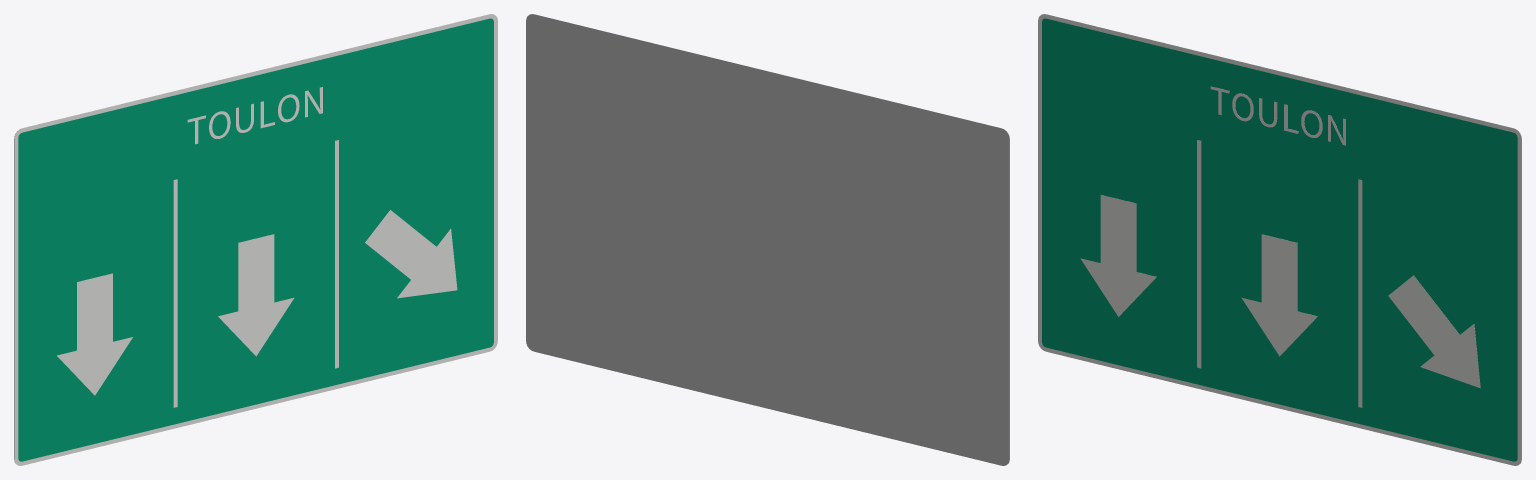
3 views of the same model, side by side, from view 1: azimuth 30°, elevation 25°; view 2: azimuth 150°, elevation 25°; view 3: azimuth 330°, elevation 25° (orthographic).
Visible parts, largest first — view 1: Da31c_fond01, Da31c_cadre00, Da31c_v04, Da31c_v06, Da31c_v02, Da31c_txt07, Da31c_sep03, Da31c_sep05, Da31c_dos; view 2: Da31c_dos; view 3: Da31c_fond01, Da31c_cadre00, Da31c_v04, Da31c_v02, Da31c_v06, Da31c_txt07, Da31c_sep03, Da31c_sep05, Da31c_dos.
Part boxes in pixels (<box>): Da31c_fond01: <box>18,18,493,461</box>; Da31c_cadre00: <box>14,14,497,465</box>; Da31c_v04: <box>218,234,294,356</box>; Da31c_v06: <box>365,210,457,298</box>; Da31c_v02: <box>57,273,132,395</box>; Da31c_txt07: <box>187,87,322,144</box>; Da31c_sep03: <box>173,179,177,407</box>; Da31c_sep05: <box>335,140,338,368</box>; Da31c_dos: <box>14,14,491,461</box>; Da31c_dos: <box>526,14,1009,465</box>; Da31c_fond01: <box>1042,18,1517,461</box>; Da31c_cadre00: <box>1038,14,1521,465</box>; Da31c_v04: <box>1241,234,1317,356</box>; Da31c_v02: <box>1080,195,1156,316</box>; Da31c_v06: <box>1388,275,1480,388</box>; Da31c_txt07: <box>1210,86,1345,145</box>; Da31c_sep03: <box>1197,140,1201,368</box>; Da31c_sep05: <box>1358,179,1362,407</box>; Da31c_dos: <box>1044,14,1521,461</box>.
Bounding box in the file's own units: 2.4 × 1.6 × 0.0045.
